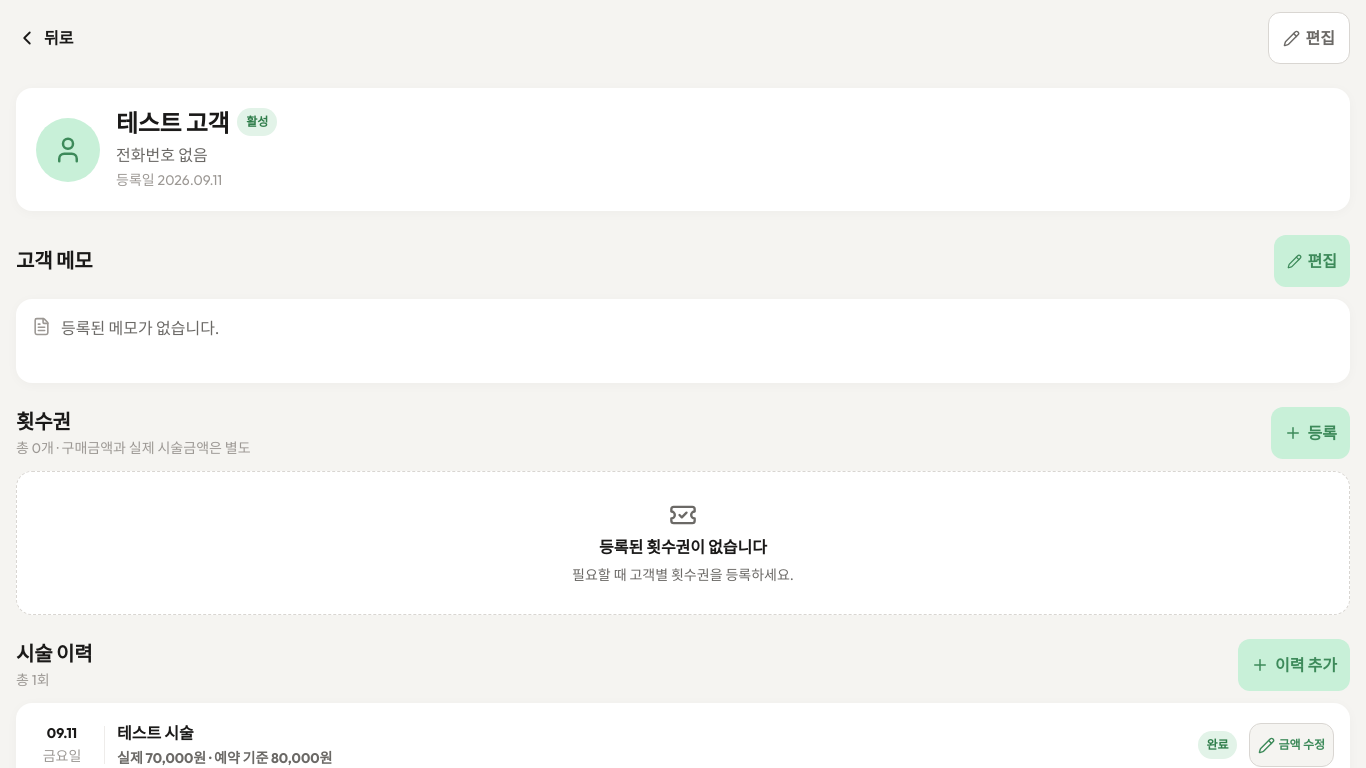
입력 0를 실제 금액 0로 저장하며 예약 기준금액은 보내지 않는다
The width and height of the screenshot is (1366, 768).
Click the button with aria-label "테스트 시술 실제 시술금액 수정".
click(1291, 745)  # box [1248, 723, 1334, 767]
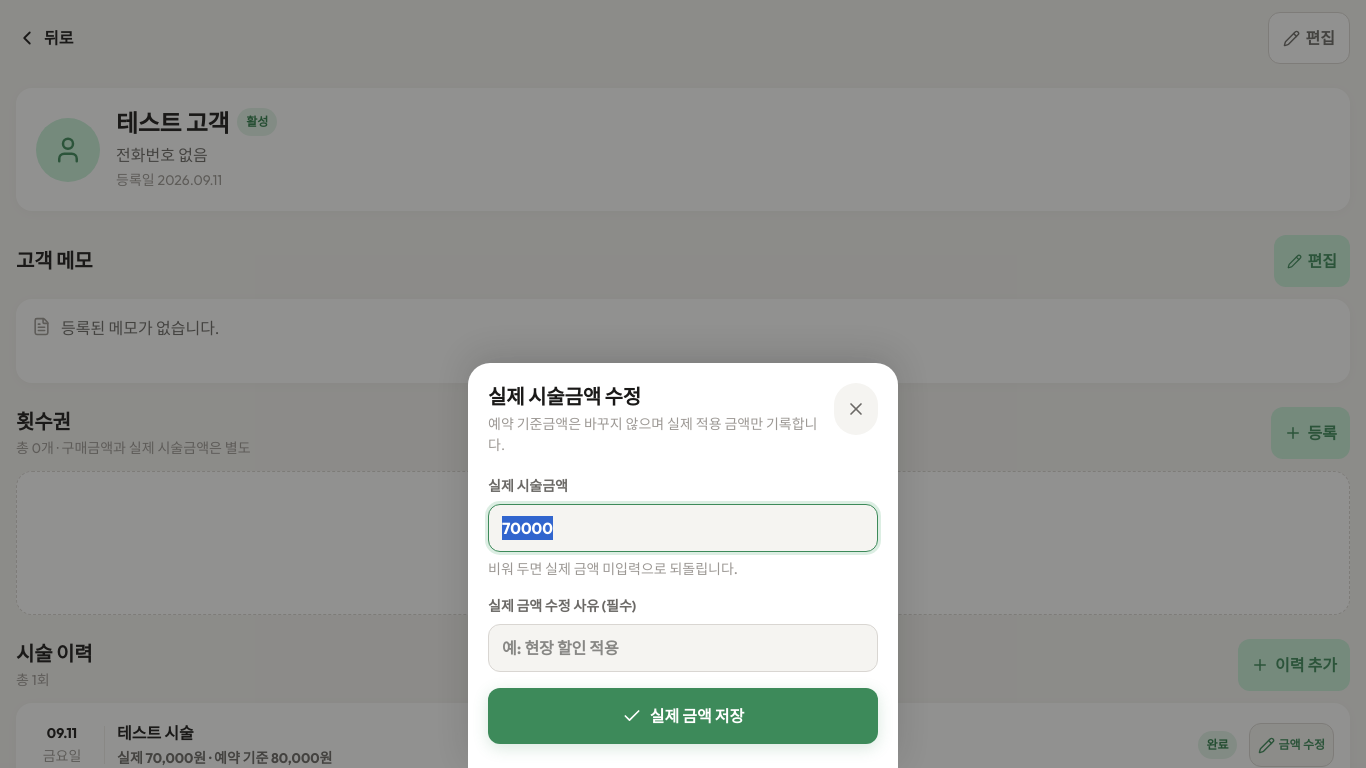
Replace the text in the field with placeholder "미입력" with "0" at (683, 528), box [488, 504, 878, 552]
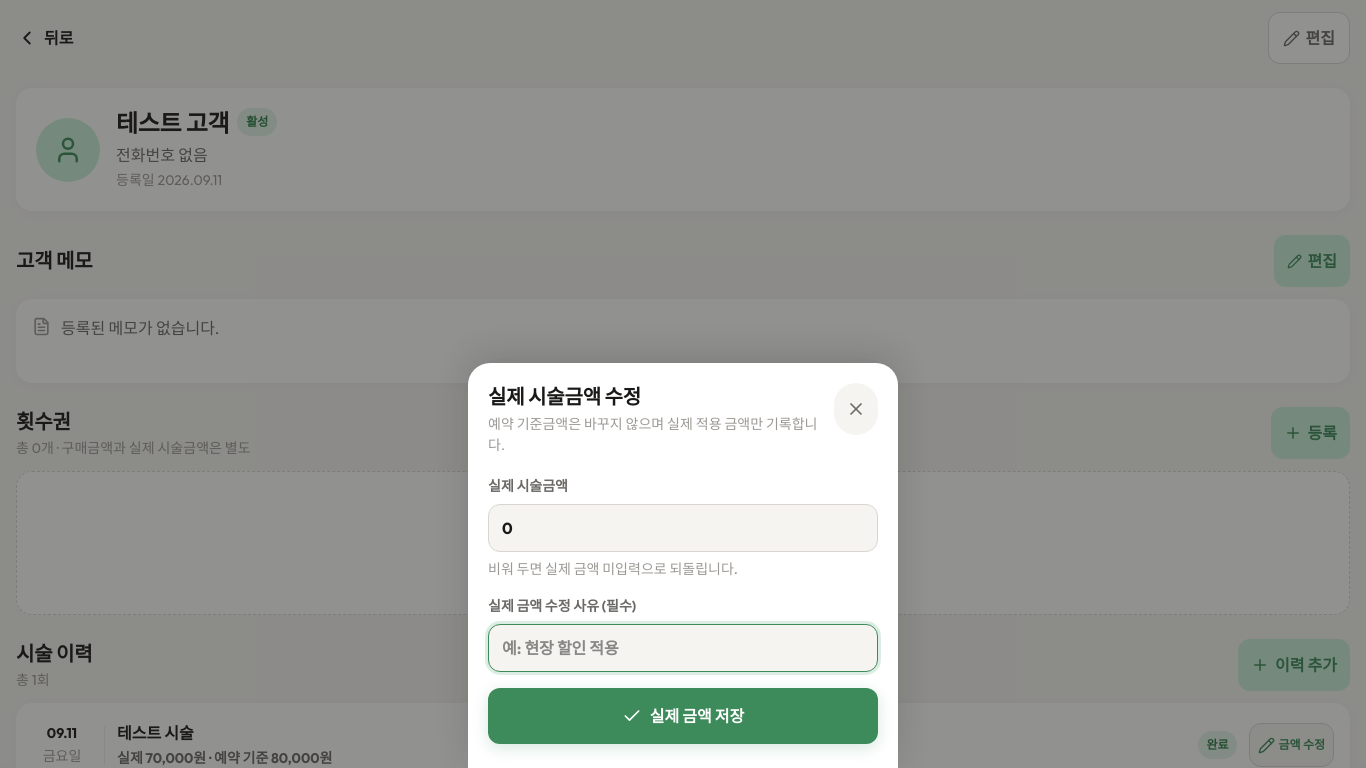
Type "현장 확인" into the field with placeholder "예: 현장 할인 적용".
click(683, 648); type("현장 확인")  # box [488, 624, 878, 672]
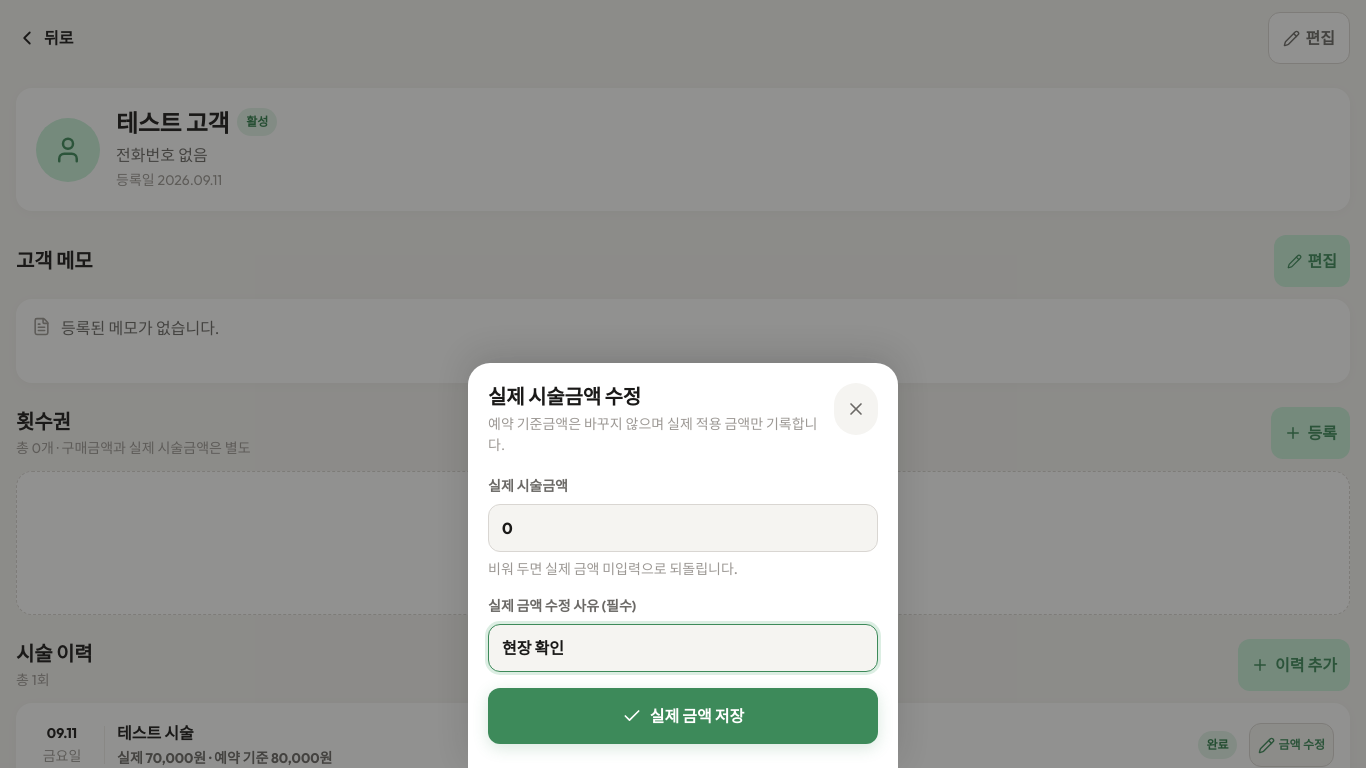
Submit the form with placeholder "미입력", box [488, 476, 878, 744]
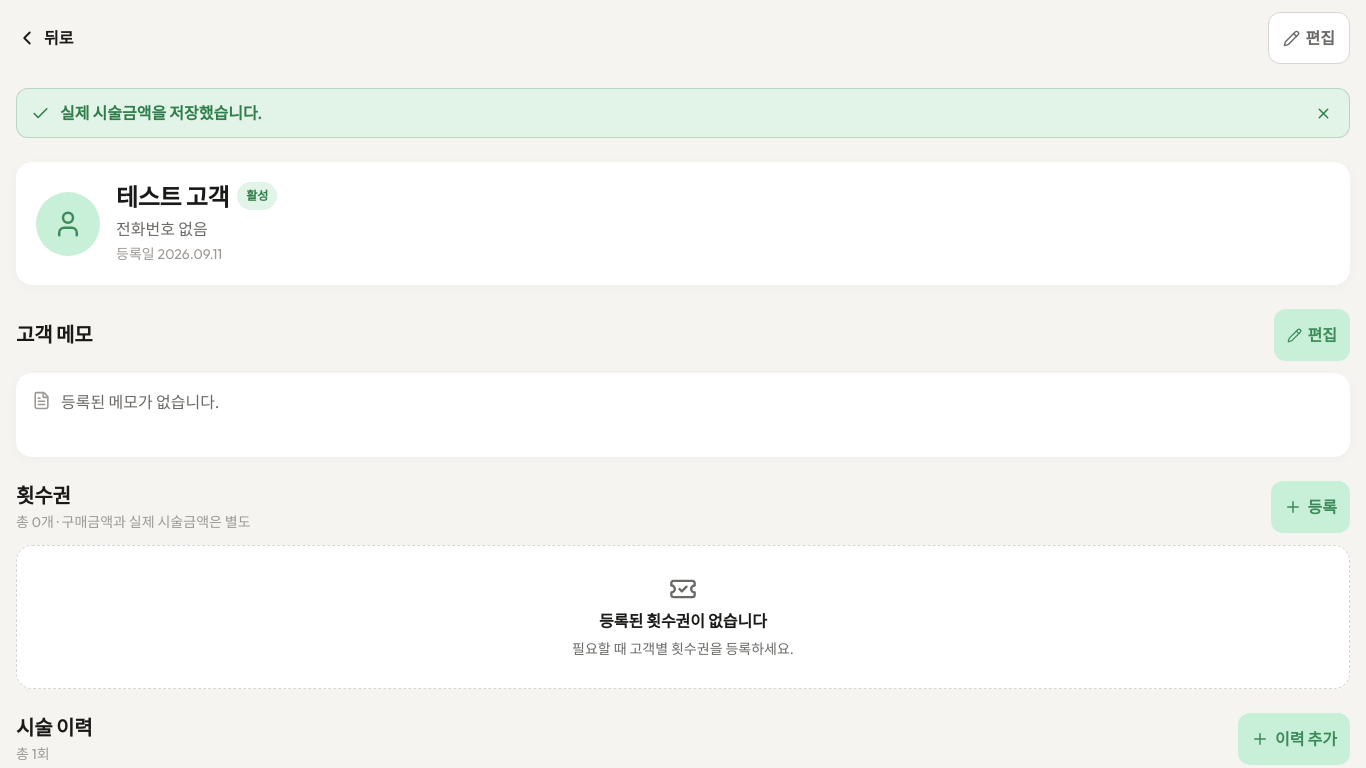
Result: the text "실제 시술금액을 저장했습니다." is shown at [60, 103, 262, 123]
